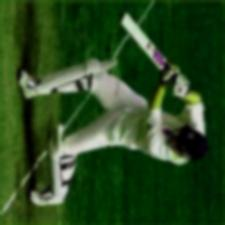batsman: (9, 10, 222, 202)
